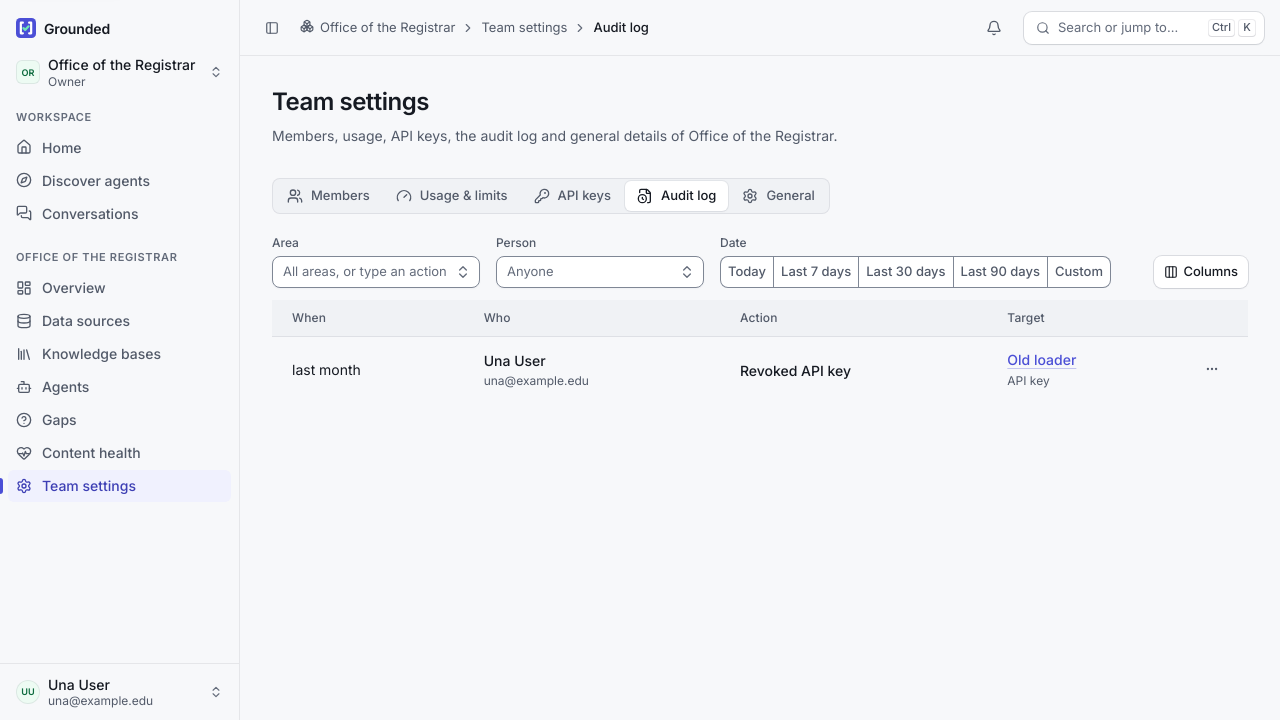
Test: revoked API keys › opens from the audit log on its record page, read-only
The width and height of the screenshot is (1280, 720).
What coordinates should you click on to do the following:
click the link "Old loader"
I would click on:
 (1042, 359)
Its box is x1=1007 y1=351 x2=1076 y2=368.
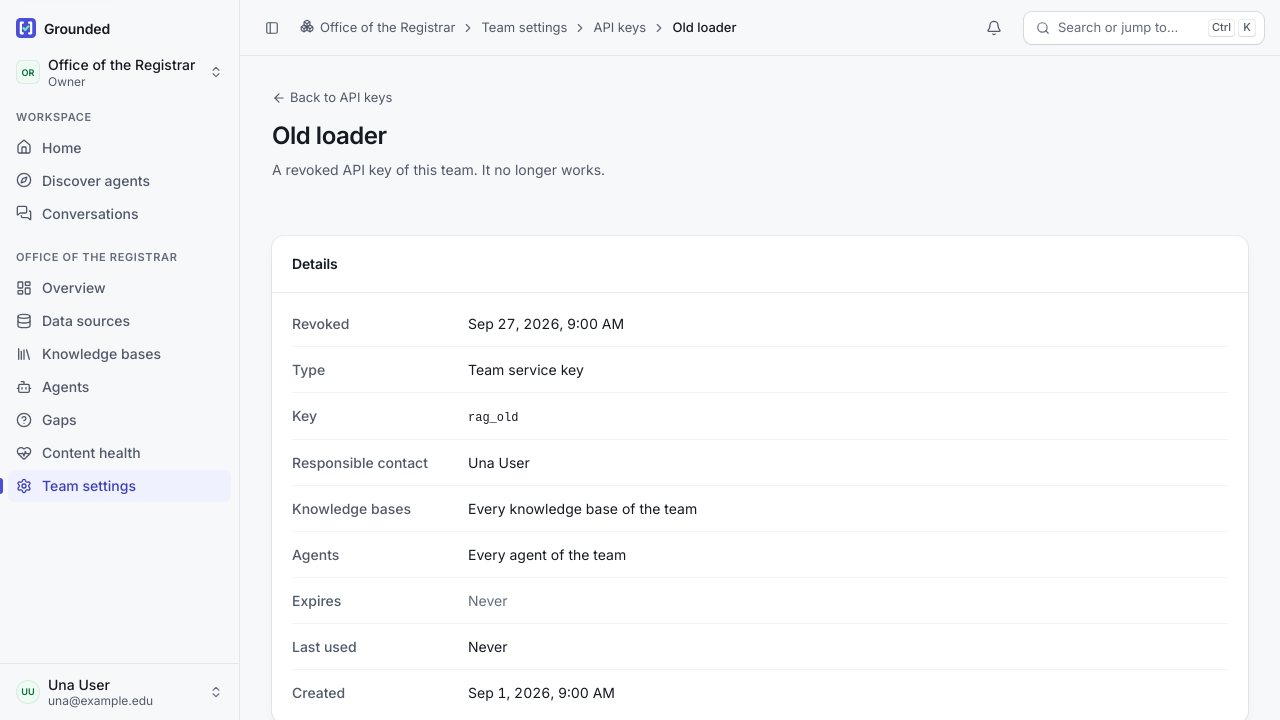
Now the element "Old loader" shows "A revoked API key of this team. It no longer works.", box x1=272 y1=160 x2=605 y2=178
Now the text "Revoked" is shown, box x1=292 y1=314 x2=350 y2=332
Now the text "Team service key" is shown, box x1=468 y1=360 x2=584 y2=378
